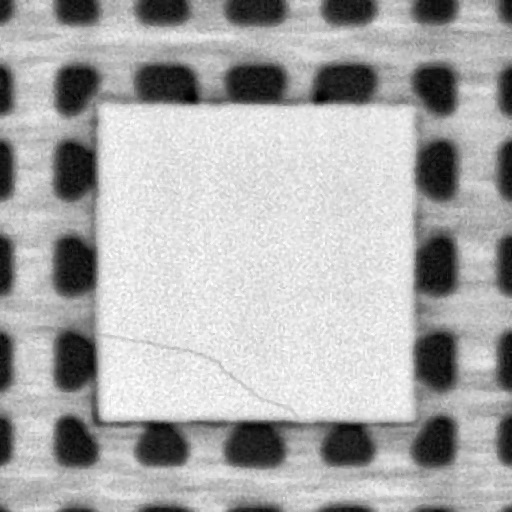DIE_CRACK: (98, 331, 296, 415)
